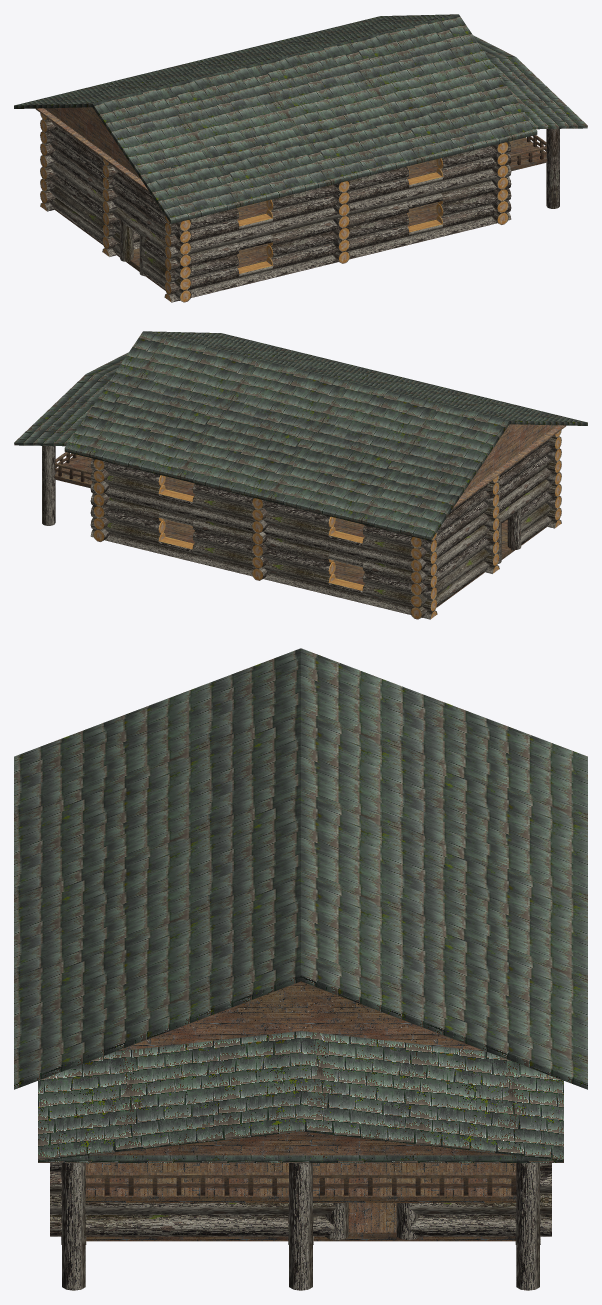
File: LogCabinPlayer.glb
3 renders of one model, top to bottom at view 1: azimuth 30°, elevation 25°; view 2: azimuth 150°, elevation 25°; view 3: azimuth 270°, elevation 25°, orthographic. The views are drawn at different scales.
Visible parts, largest first — view 1: House; view 2: House; view 3: House.
Boxes of the visible parts, x1,y1,x2,y2 form: House: (14, 14, 587, 302); House: (14, 331, 587, 619); House: (14, 648, 587, 1290).
Size of the model in its own units: 37.36 by 13.3 by 24.
Materials: 3 (3 with a texture image).
